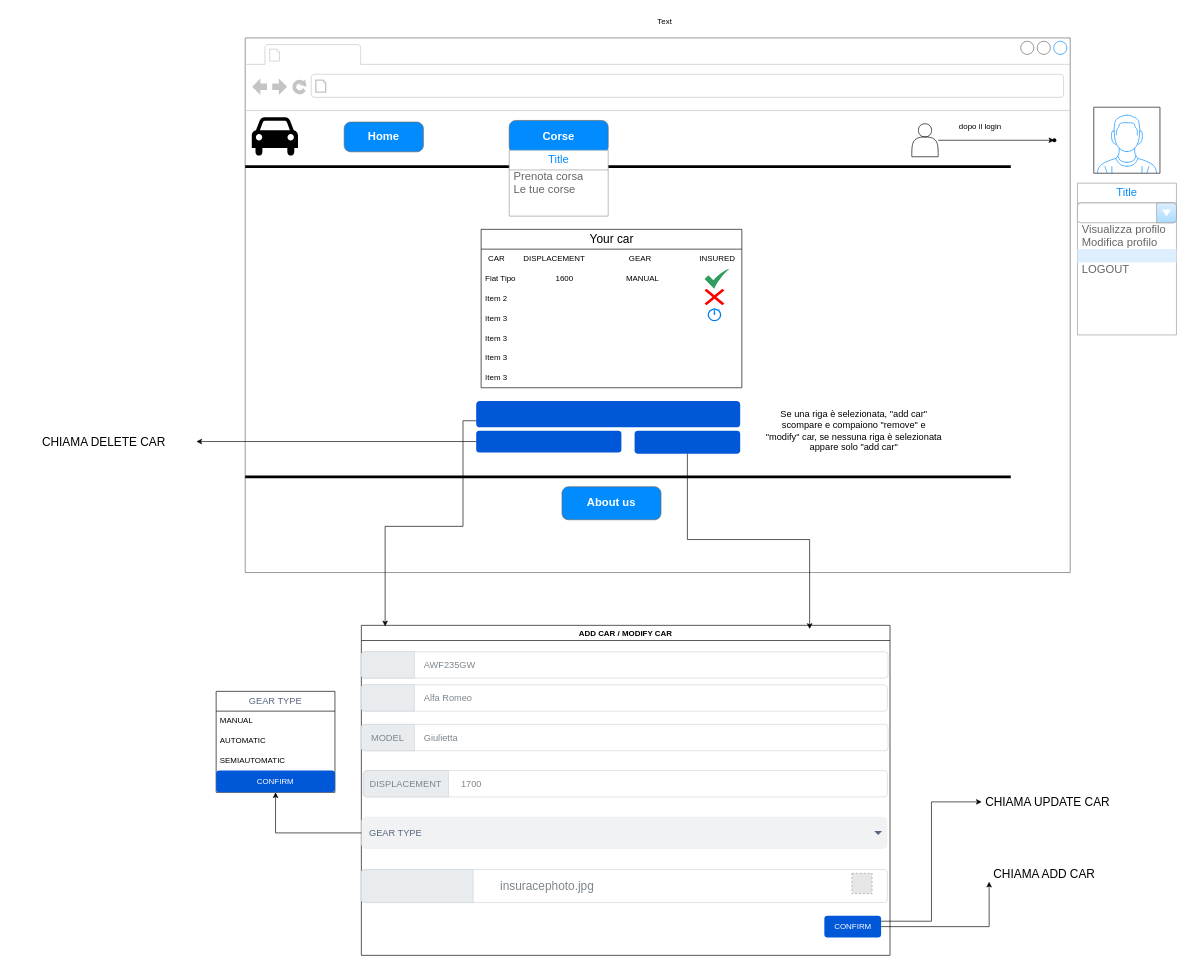
The diagram is 1188 pixels wide and 967 high, and some of its shapes have lost their labels. Grey dashed boxes stand in for pictures. The centre of each missing label's shape, as x and y in pixels:
"ADD CAR" goes at point 608,414.
"BRAND" goes at point 387,697.
"dropdown" goes at point 1126,212.
"https://www.mypersonaldriver/documents.it" goes at point 413,86.
"INSURANCE PHOTO" goes at point 417,886.
"MODIFY CAR" goes at point 687,441.
"Page 1" goes at point 320,54.
"PLATE" goes at point 387,664.
"REMOVE" goes at point 548,441.
